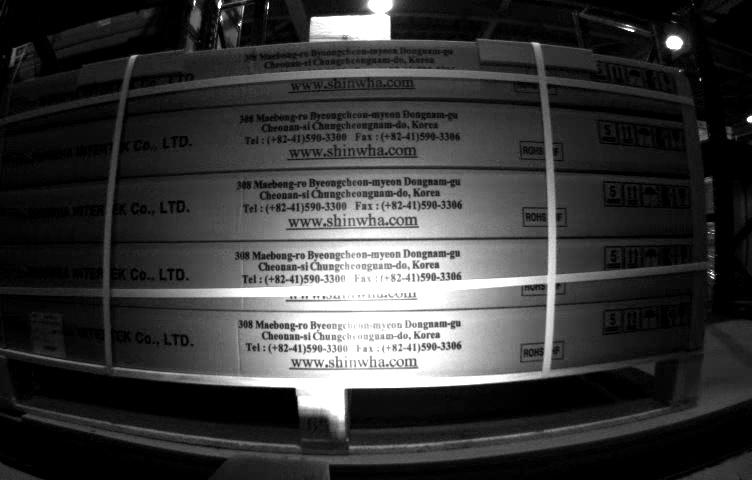True Barcode: (31, 310, 64, 358)
